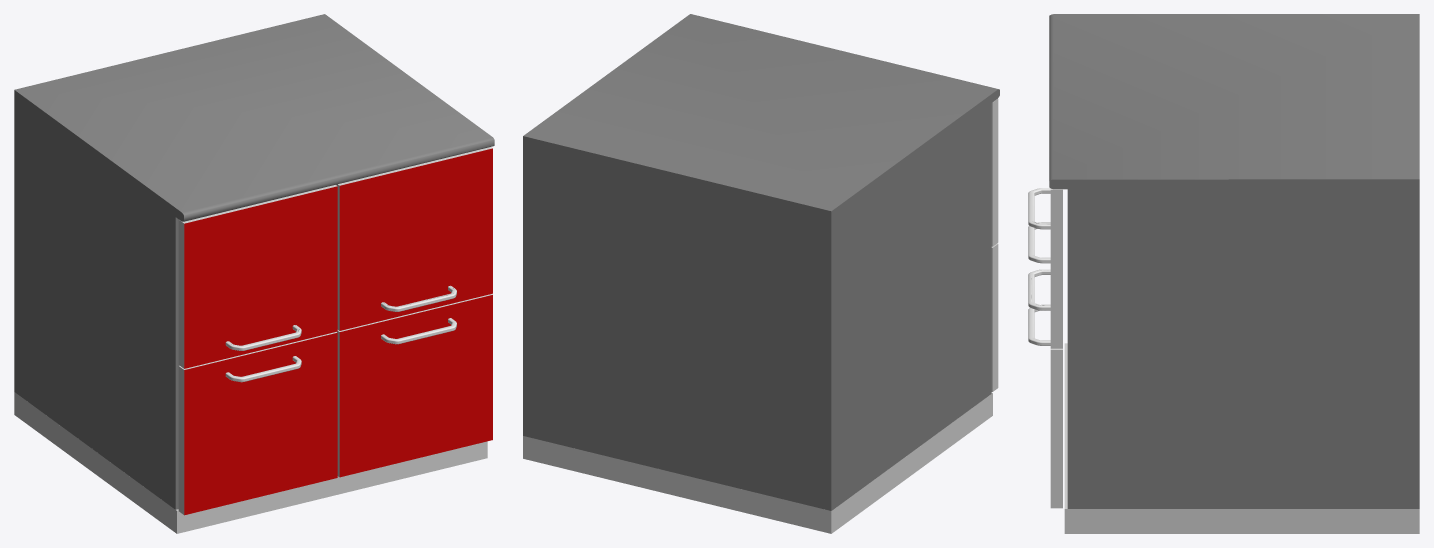
The model's file is sh-lp-mobiletto-grande.glb.
3 views of the same model, side by side, from view 1: azimuth 30°, elevation 25°; view 2: azimuth 150°, elevation 25°; view 3: azimuth 270°, elevation 25° (orthographic). The views are drawn at different scales.
Visible parts, largest first — view 1: Rectangle18_1, Box612_5, Box61_4, Loft22_2; view 2: Rectangle18_1, Box61_4; view 3: Rectangle18_1, Box61_4, Loft22_2.
Boxes of the visible parts, box(x1,y1,x2,y2) form: Rectangle18_1: box(14, 14, 494, 509); Box612_5: box(184, 148, 492, 515); Box61_4: box(14, 147, 492, 533); Loft22_2: box(225, 285, 456, 382); Rectangle18_1: box(523, 14, 999, 510); Box61_4: box(523, 98, 998, 533); Rectangle18_1: box(1049, 14, 1419, 508); Box61_4: box(1050, 188, 1419, 533); Loft22_2: box(1028, 188, 1050, 345).
Bounding box in the file's own units: 1 × 1 × 1.
